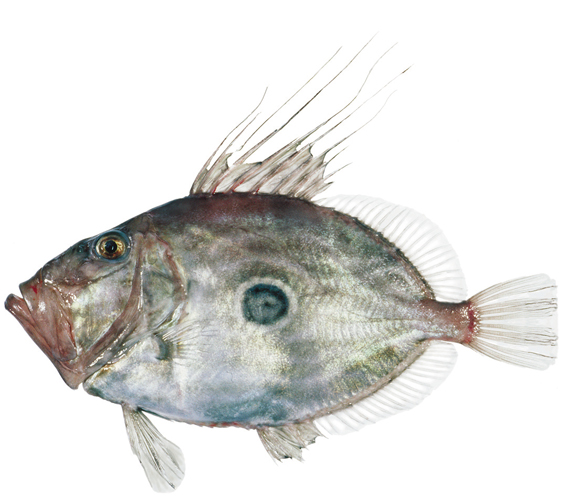fish: (6, 31, 561, 493)
